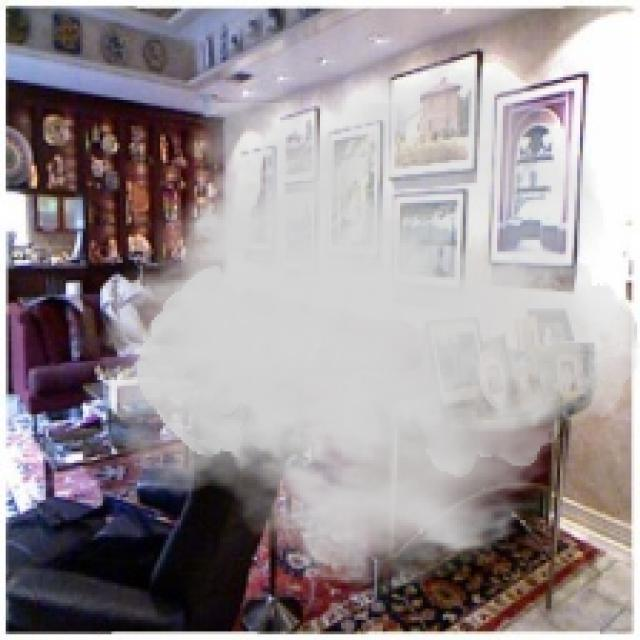Smoke: (80, 54, 637, 597)
